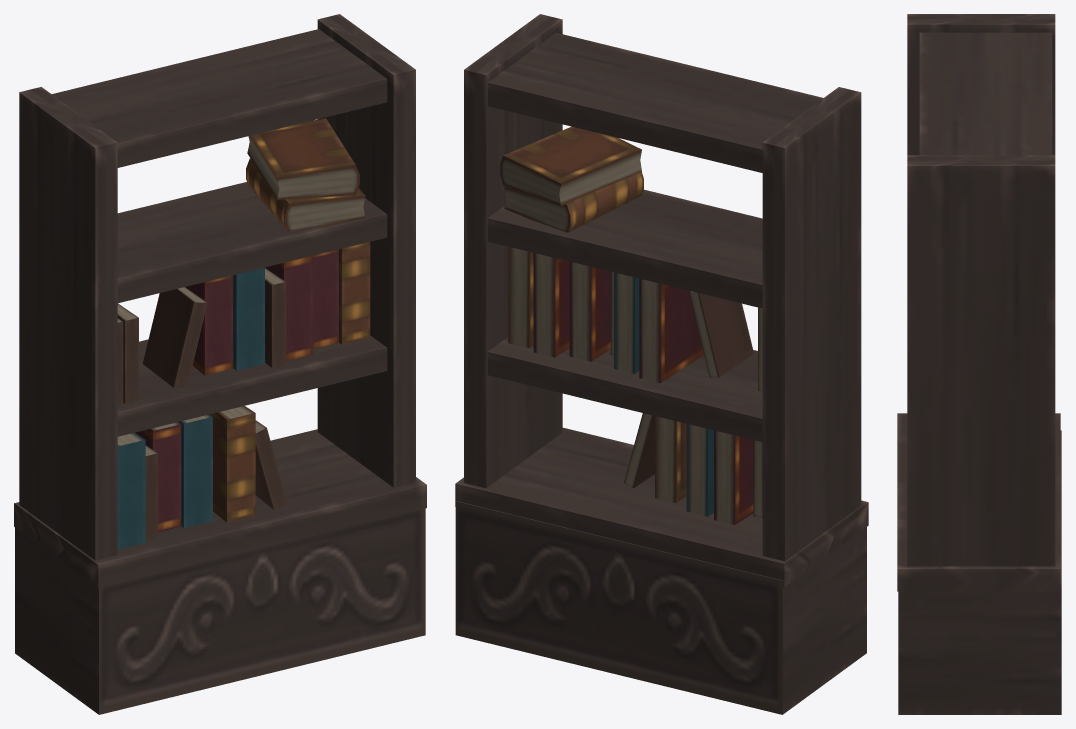
The model's file is bookcase.FBX.
The picture shows the model from 3 angles, left to right: view 1: azimuth 30°, elevation 25°; view 2: azimuth 150°, elevation 25°; view 3: azimuth 270°, elevation 25°; orthographic projection. The views are drawn at different scales.
Visible parts, largest first — view 1: bookcase; view 2: bookcase; view 3: bookcase.
Boxes of the visible parts, x1,y1,x2,y2 form: bookcase: [14, 14, 426, 714]; bookcase: [455, 14, 868, 714]; bookcase: [897, 14, 1061, 714].
Bounding box in the file's own units: 190 × 312 × 84.98.
